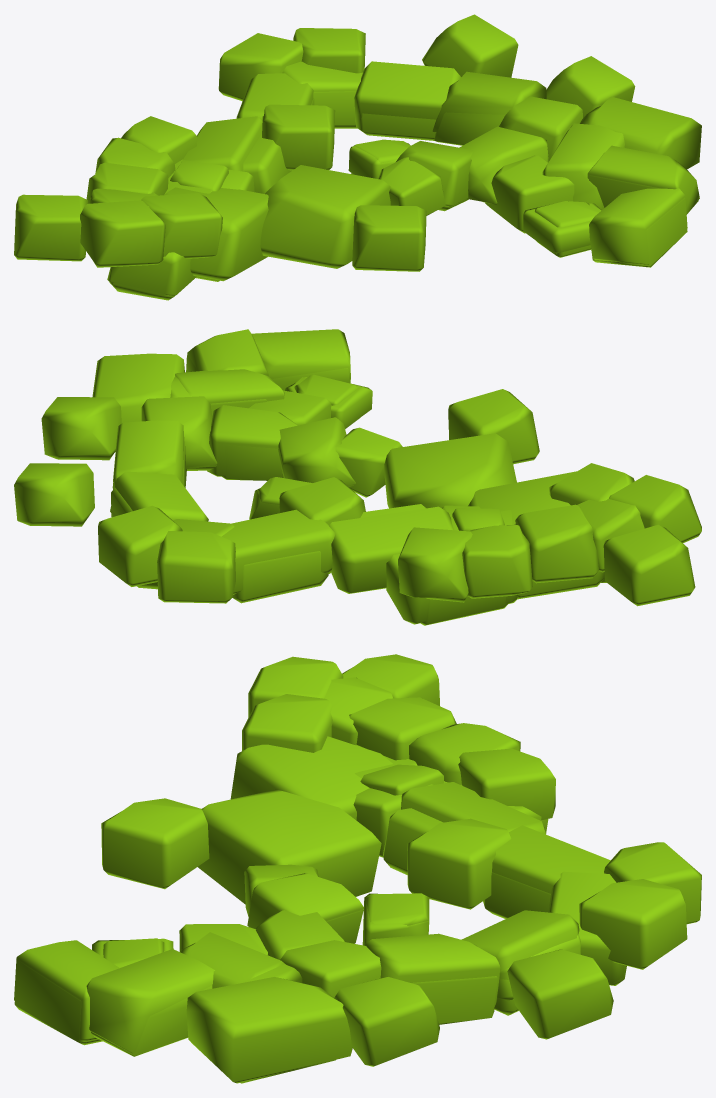
Rendered from Floor_Break_C_01A_Lod0.fbx.
The picture shows the model from 3 angles, top to bottom: view 1: azimuth 30°, elevation 25°; view 2: azimuth 150°, elevation 25°; view 3: azimuth 270°, elevation 25°; orthographic projection. The views are drawn at different scales.
Visible parts, largest first — view 1: Floor_Break_C_01A_Lod0; view 2: Floor_Break_C_01A_Lod0; view 3: Floor_Break_C_01A_Lod0.
Boxes of the visible parts, x1,y1,x2,y2 form: Floor_Break_C_01A_Lod0: (14,14,701,300); Floor_Break_C_01A_Lod0: (14,329,701,625); Floor_Break_C_01A_Lod0: (14,654,701,1083).
Bounding box in the file's own units: 391 × 54.6 × 306.
